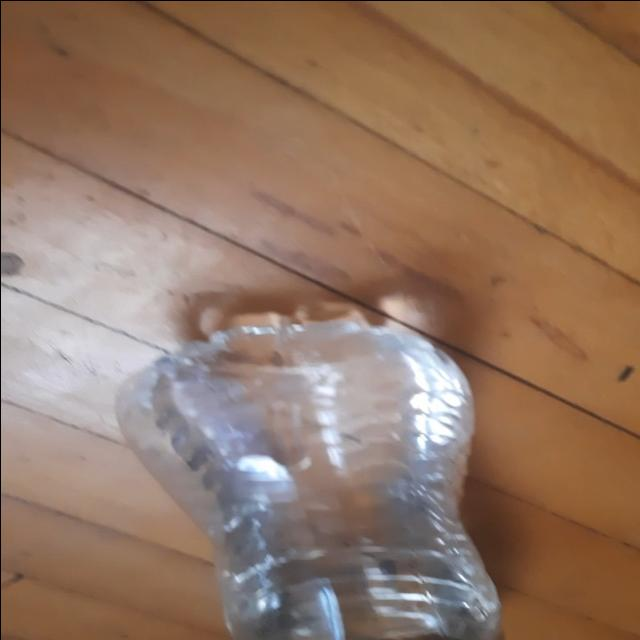Plastic: (112, 300, 504, 640)
